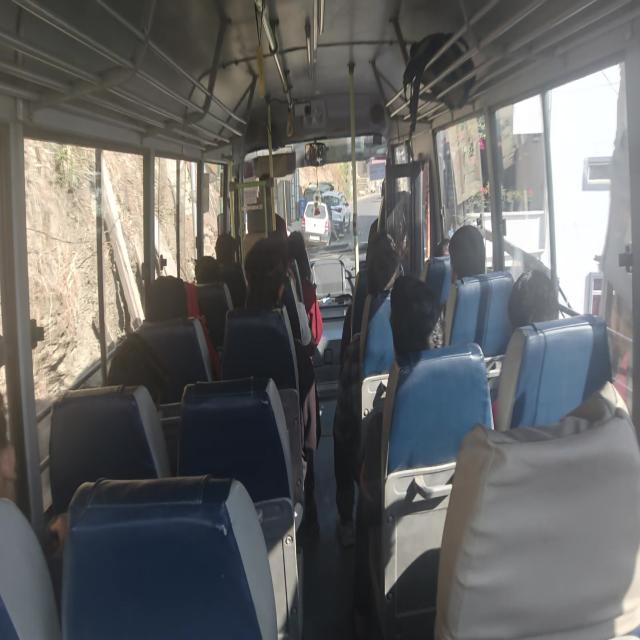person: (353, 273, 443, 634), (241, 236, 321, 533), (332, 230, 404, 546), (491, 268, 560, 427), (429, 223, 486, 349), (507, 268, 559, 331), (448, 224, 486, 284)
